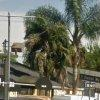Palm tree: (48, 4, 100, 80)
